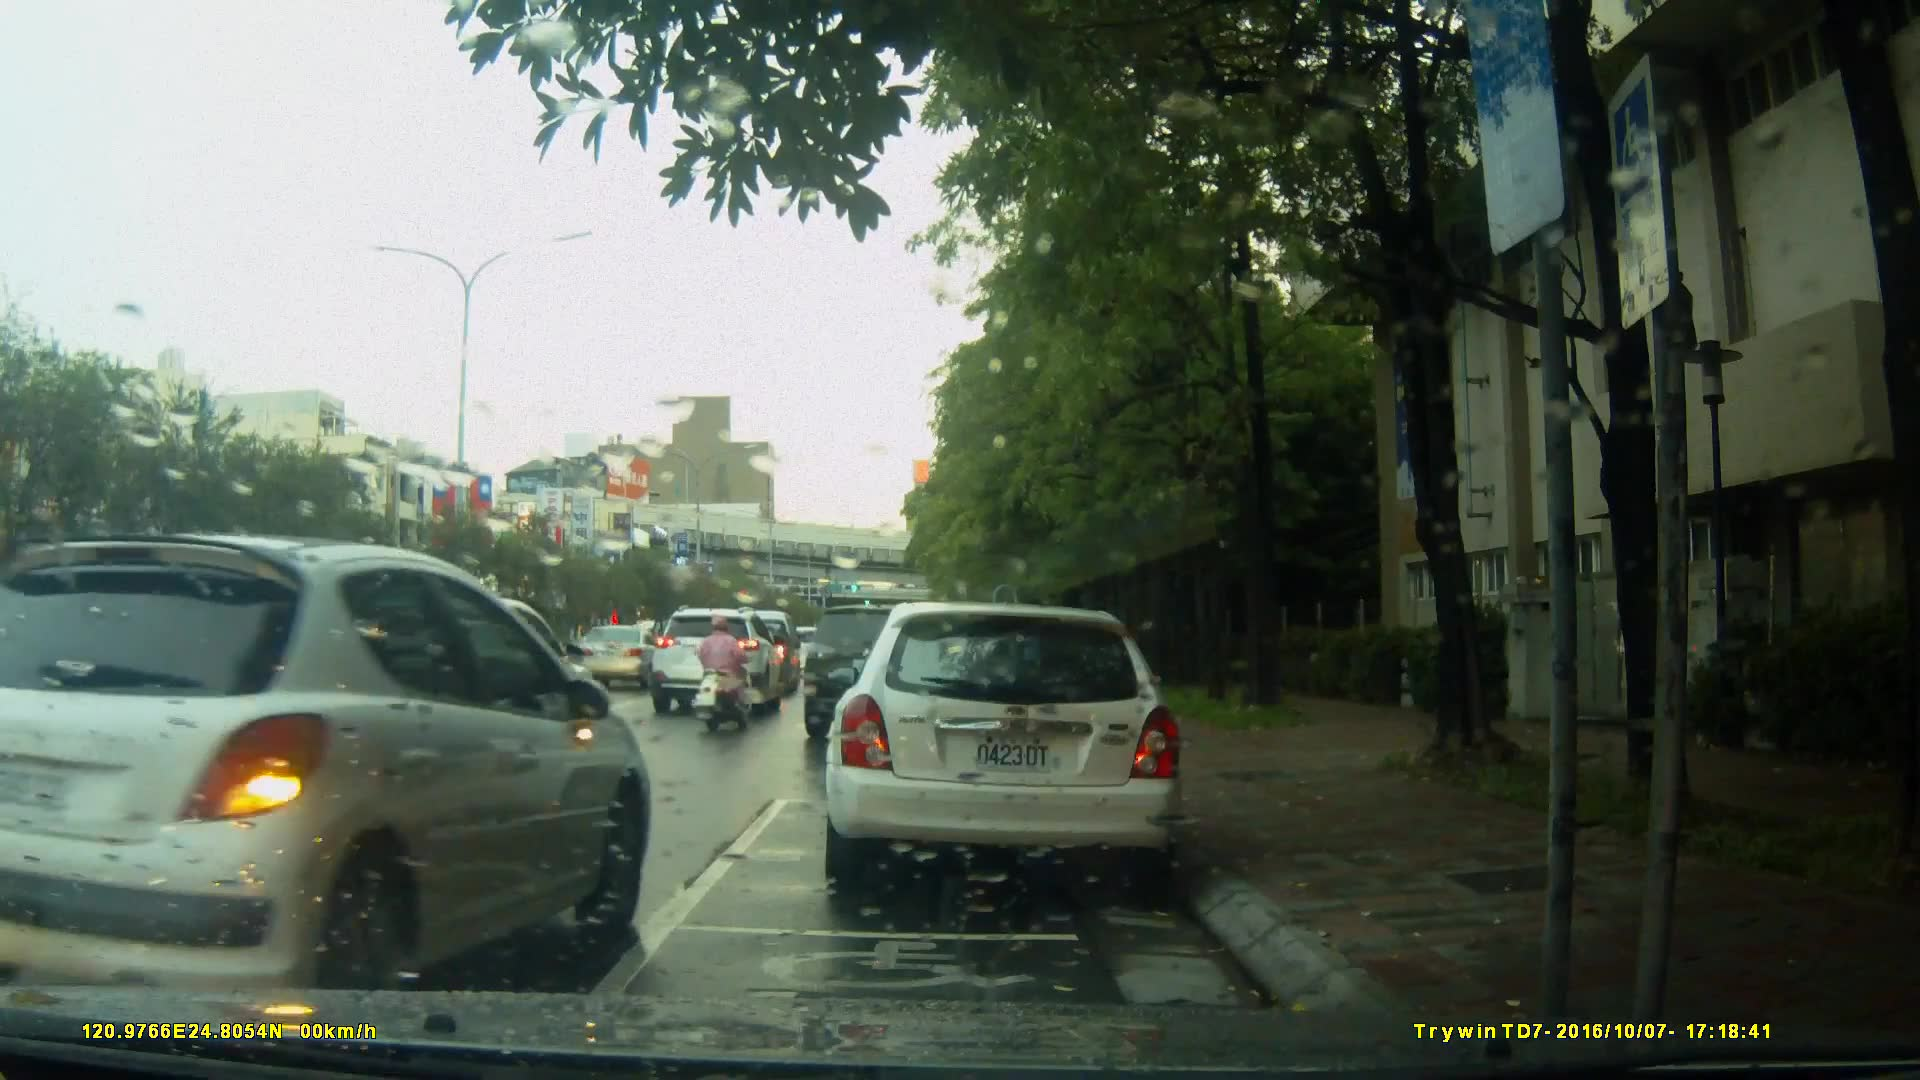rider: (692, 608, 752, 738)
vehicle: (1, 528, 670, 994), (820, 602, 1188, 898), (800, 602, 1007, 752), (650, 607, 786, 719), (566, 623, 671, 692)
